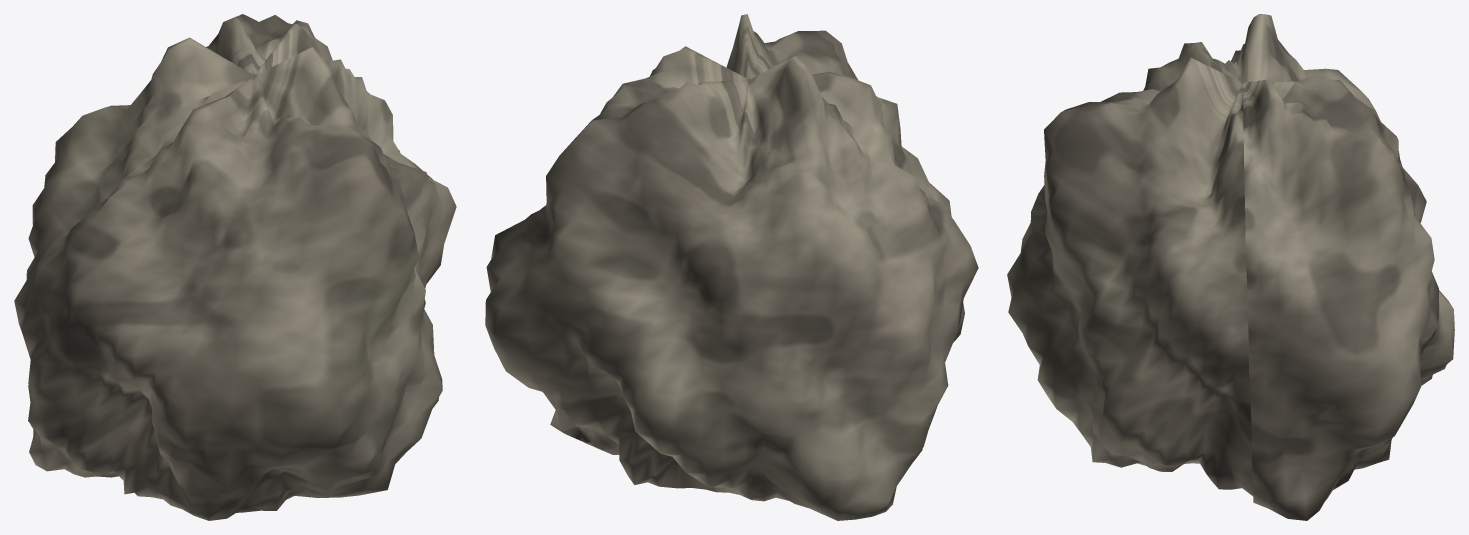
File: reef_rock_v2_d.glb
The picture shows the model from 3 angles, left to right: view 1: azimuth 30°, elevation 25°; view 2: azimuth 150°, elevation 25°; view 3: azimuth 270°, elevation 25°; orthographic projection. The views are drawn at different scales.
Visible parts, largest first — view 1: world; view 2: world; view 3: world.
Boxes of the visible parts, bbox=[...] form: world: bbox=[14, 14, 456, 520]; world: bbox=[485, 14, 978, 520]; world: bbox=[1007, 14, 1454, 520].
Size of the model in its own units: 2.16 by 2.06 by 2.09.
1 material, 1 textured.
